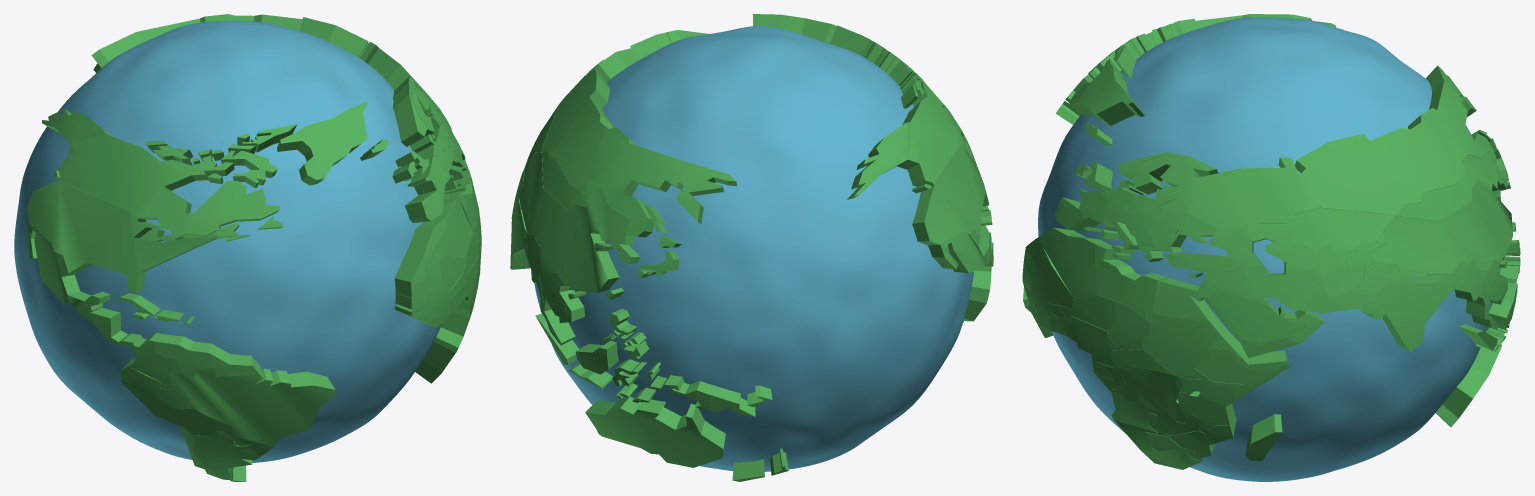
Rendered from earth10.glb.
3 renders of one model, left to right at view 1: azimuth 30°, elevation 25°; view 2: azimuth 150°, elevation 25°; view 3: azimuth 270°, elevation 25°, orthographic. The views are drawn at different scales.
Visible parts, largest first — view 1: ocean, Cap 1 (×11), Extrude, Extrude.70, Groenland, Extrude.2, Extrude.193, Extrude.66, Extrude.124, Extrude.166, Extrude.150, Extrude.188 (+3 smaller); view 2: ocean, Cap 1 (×7), Extrude, Extrude.70, Extrude.201, Extrude.2, Groenland, Extrude.172, Extrude.10, Extrude.166, Extrude.200, Extrude.162 (+1 smaller); view 3: Cap 1 (×38), ocean, iran, Groenland, Extrude.201, Extrude.70, Extrude.202, Extrude.118.
Part boxes in pixels (left/top/right/bottom): ocean: left=14, top=20, right=441, bottom=462; Cap 1 (×11): left=42, top=108, right=472, bottom=480; Extrude: left=26, top=180, right=223, bottom=292; Extrude.70: left=91, top=14, right=448, bottom=122; Groenland: left=277, top=102, right=366, bottom=185; Extrude.2: left=26, top=222, right=110, bottom=310; Extrude.193: left=160, top=360, right=335, bottom=446; Extrude.66: left=393, top=89, right=427, bottom=146; Extrude.124: left=434, top=312, right=470, bottom=352; Extrude.166: left=140, top=156, right=279, bottom=241; Extrude.150: left=405, top=217, right=444, bottom=257; Extrude.188: left=154, top=333, right=216, bottom=355; ocean: left=534, top=26, right=973, bottom=471; Cap 1 (×7): left=510, top=61, right=963, bottom=467; Extrude: left=912, top=135, right=988, bottom=245; Extrude.70: left=543, top=33, right=737, bottom=237; Extrude.201: left=585, top=396, right=725, bottom=454; Extrude.2: left=928, top=229, right=991, bottom=273; Groenland: left=753, top=14, right=836, bottom=43; Extrude.172: left=830, top=25, right=884, bottom=63; Extrude.10: left=519, top=153, right=633, bottom=292; Extrude.166: left=900, top=63, right=963, bottom=186; Extrude.200: left=732, top=459, right=764, bottom=480; Extrude.162: left=847, top=138, right=918, bottom=199; Cap 1 (×38): left=1023, top=65, right=1512, bottom=461; ocean: left=1038, top=17, right=1500, bottom=481; iran: left=1203, top=289, right=1305, bottom=344; Groenland: left=1070, top=59, right=1144, bottom=125; Extrude.201: left=1436, top=327, right=1504, bottom=427; Extrude.70: left=1176, top=65, right=1494, bottom=257; Extrude.202: left=1139, top=446, right=1202, bottom=469; Extrude.118: left=1245, top=414, right=1282, bottom=455.
Size of the model in its own units: 1.04 by 0.9613 by 1.03.
